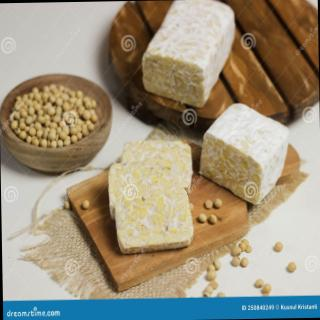Tempe: (198, 102, 292, 207), (122, 139, 194, 194), (288, 262, 297, 273)
